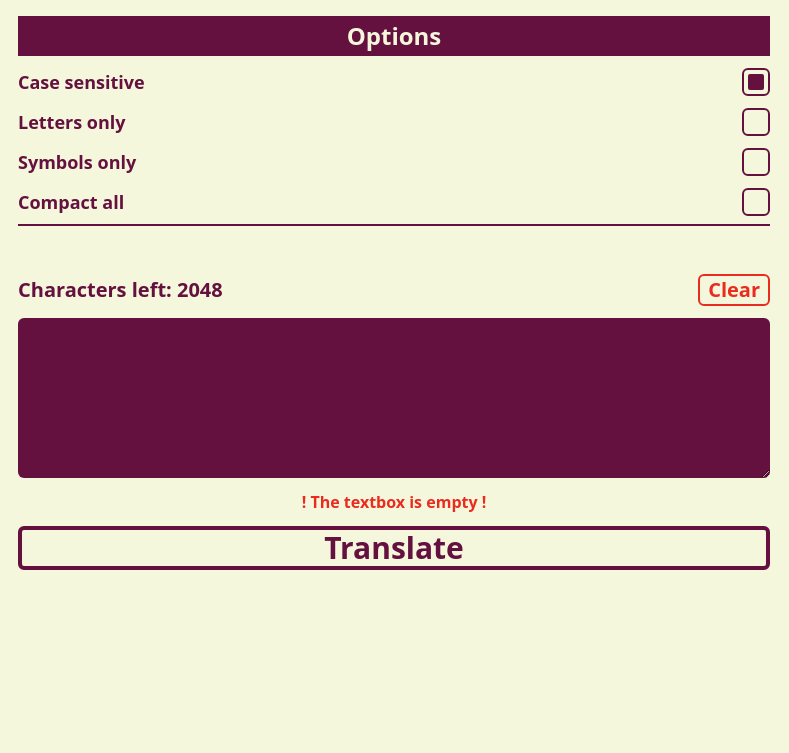
Test: App › should properly calculate and display the number of repetitions for a word sequence
In the text box: [394, 398] box 18,318 -> 770,478, type "work test add test work add add test"
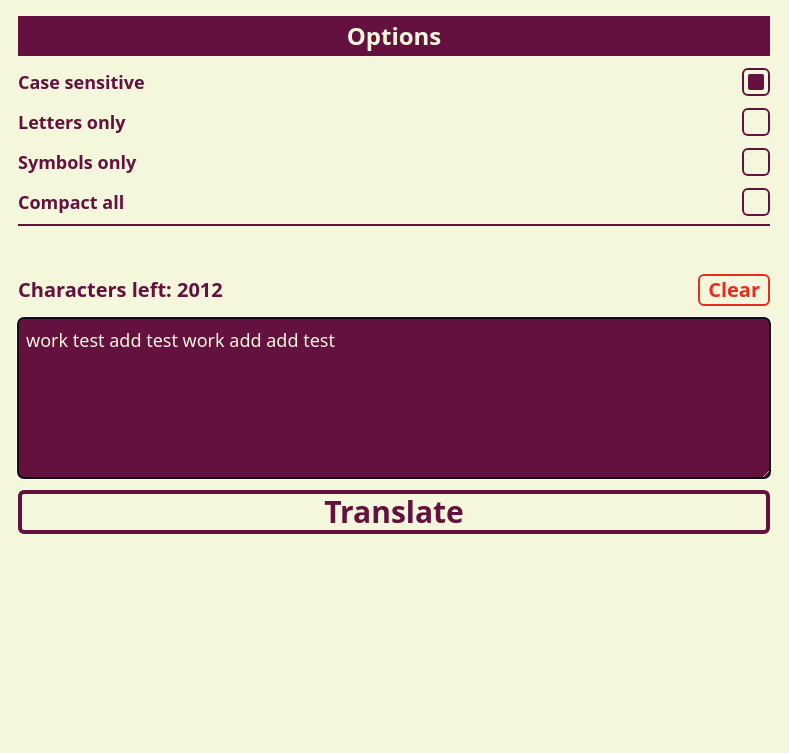
Click the button "Translate": [394, 512] box 18,490 -> 770,534
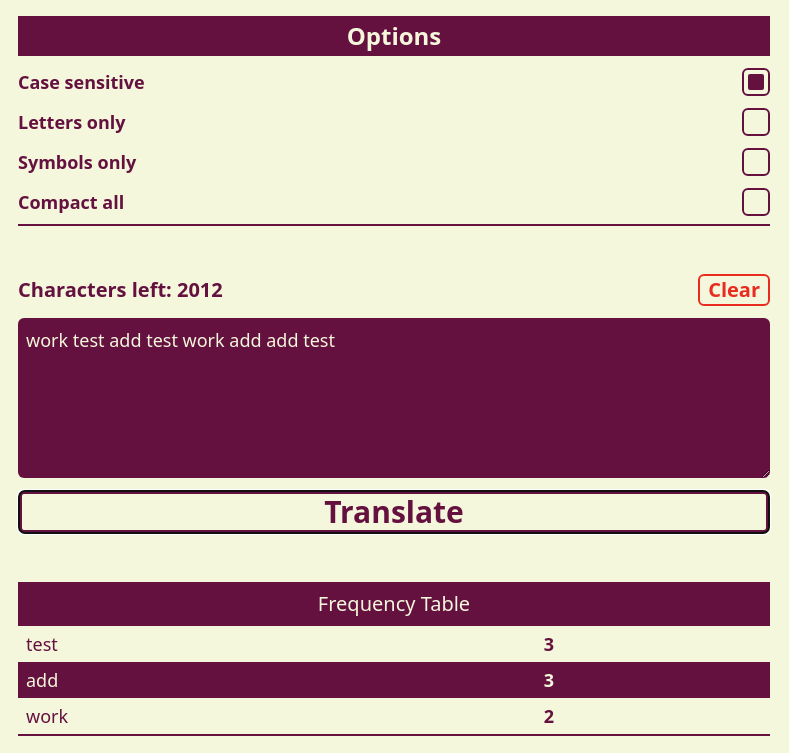
Expected: the row "work 2" is shown, 18,698 -> 770,735
Expected: the row "test 3" is shown, 18,626 -> 770,662
Expected: the row "add 3" is shown, 18,662 -> 770,698
